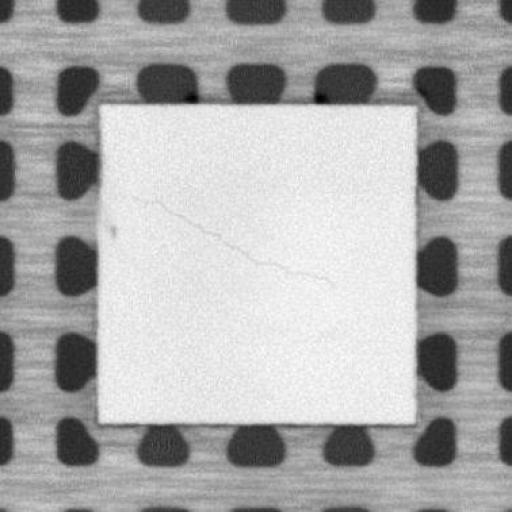DIE_CRACK: (132, 193, 334, 288)
